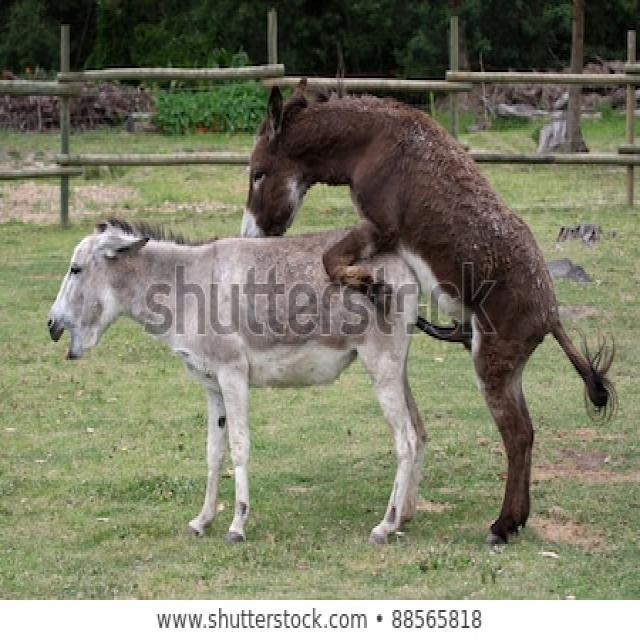Donkey: (242, 77, 620, 546), (50, 220, 426, 542)
